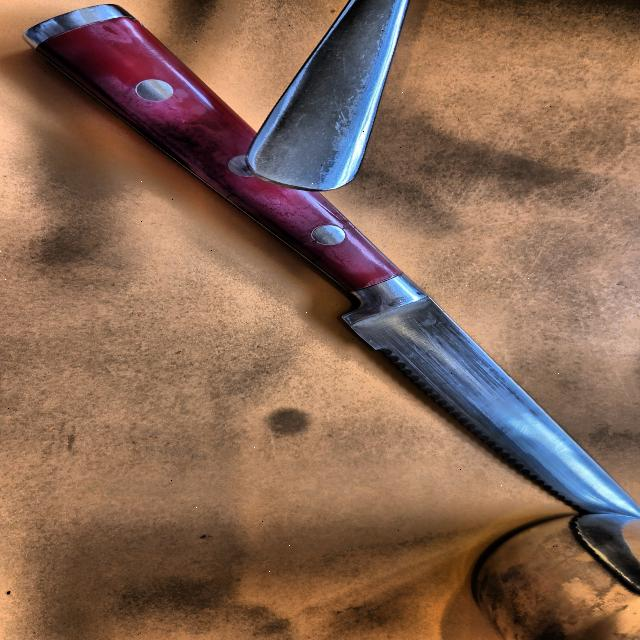knife: (19, 1, 640, 520)
